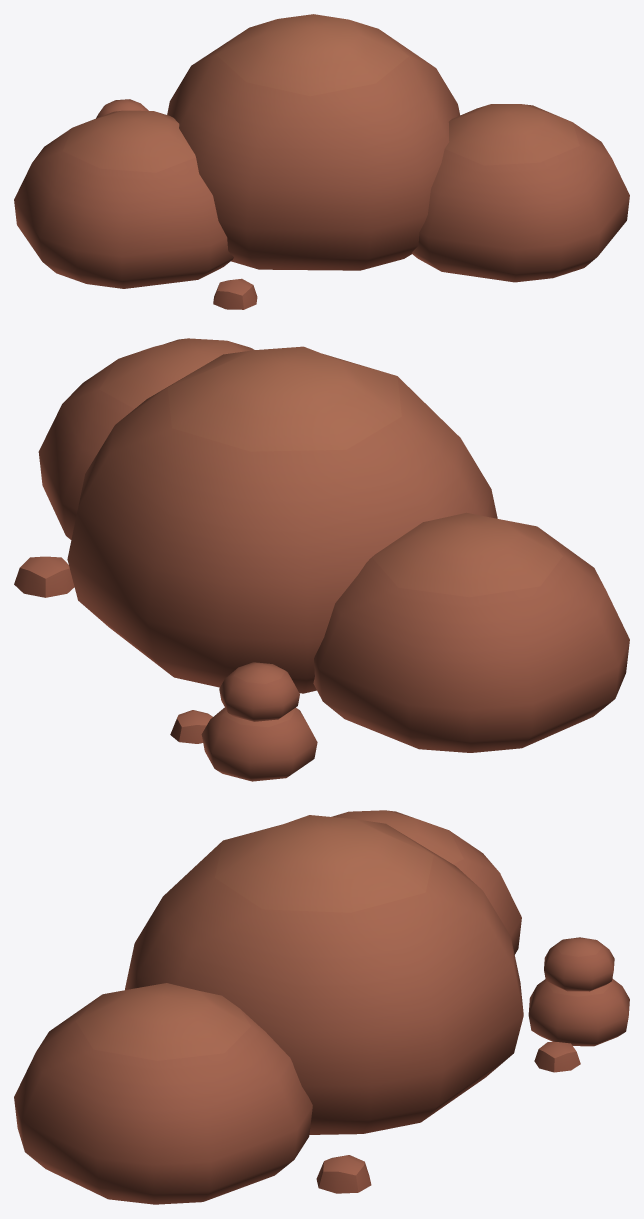
Rendered from Rock_5_G_Color2.fbx.
3 renders of one model, top to bottom at view 1: azimuth 30°, elevation 25°; view 2: azimuth 150°, elevation 25°; view 3: azimuth 270°, elevation 25°, orthographic. The views are drawn at different scales.
Parts seen in each view (by area): view 1: Rock_5_G_Color2; view 2: Rock_5_G_Color2; view 3: Rock_5_G_Color2.
Part boxes in pixels (x1,y1,x2,y2): Rock_5_G_Color2: [14, 14, 629, 309]; Rock_5_G_Color2: [14, 338, 629, 781]; Rock_5_G_Color2: [14, 810, 629, 1204].
Bounding box in the file's own units: 2.35 × 0.9346 × 2.05.
